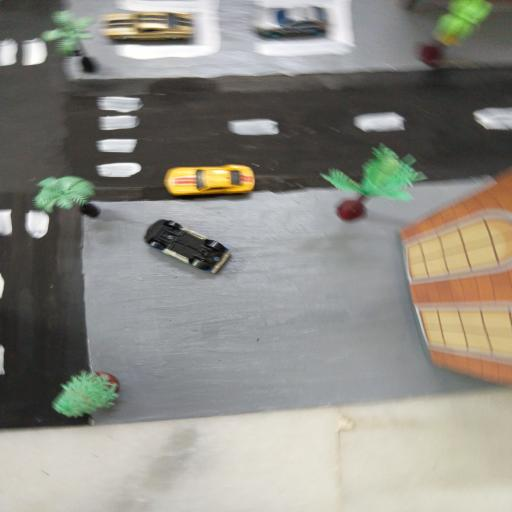car crash: (144, 218, 244, 278)
